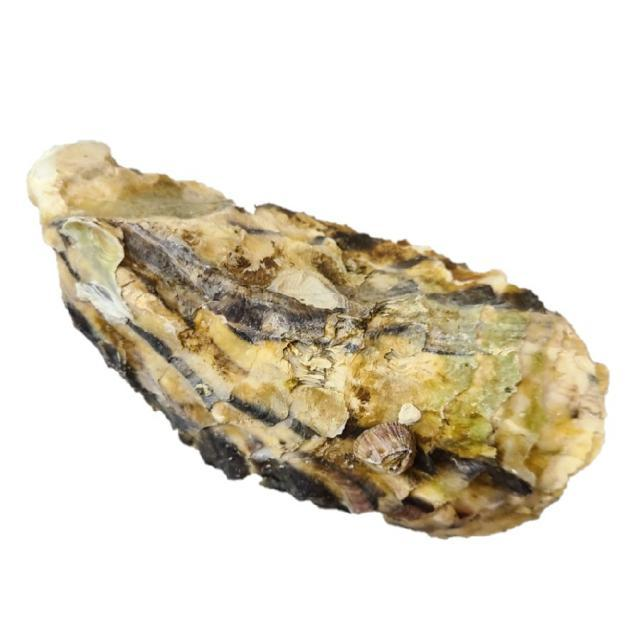Oyster- Indeterminate: (24, 140, 609, 541)
